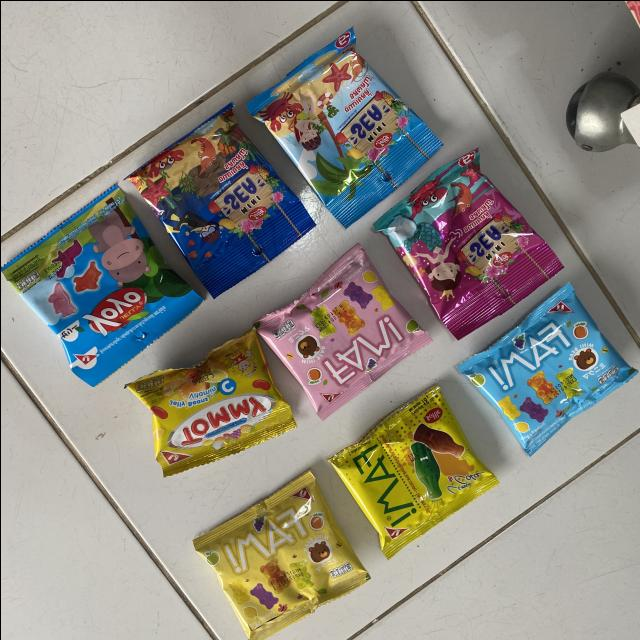plastik: (0, 185, 202, 385), (245, 28, 442, 227), (127, 103, 314, 297), (373, 148, 562, 339), (458, 282, 637, 455), (256, 243, 431, 419), (193, 471, 369, 640), (328, 385, 497, 558), (125, 327, 294, 476)
